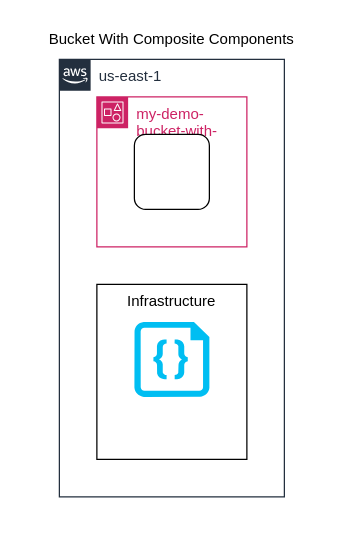
The diagram is 343 pixels wide and 555 high, and some of its shapes have lost their labels. Each missing label, with the centre of its shape:
Backend: [171,358]
Bucket Versioning: [171,171]
